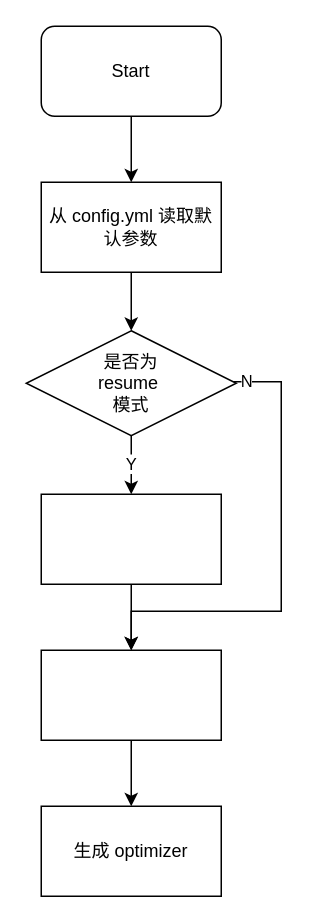
The diagram is 320 pixels wide and 923 high, and some of its shapes have lost their labels. The centre of each missing label's shape, as x and y in pixels:
"从 checkpoints 中读取参数" goes at [130,538].
"尝试从 args 中读取参数" goes at [130,694].
